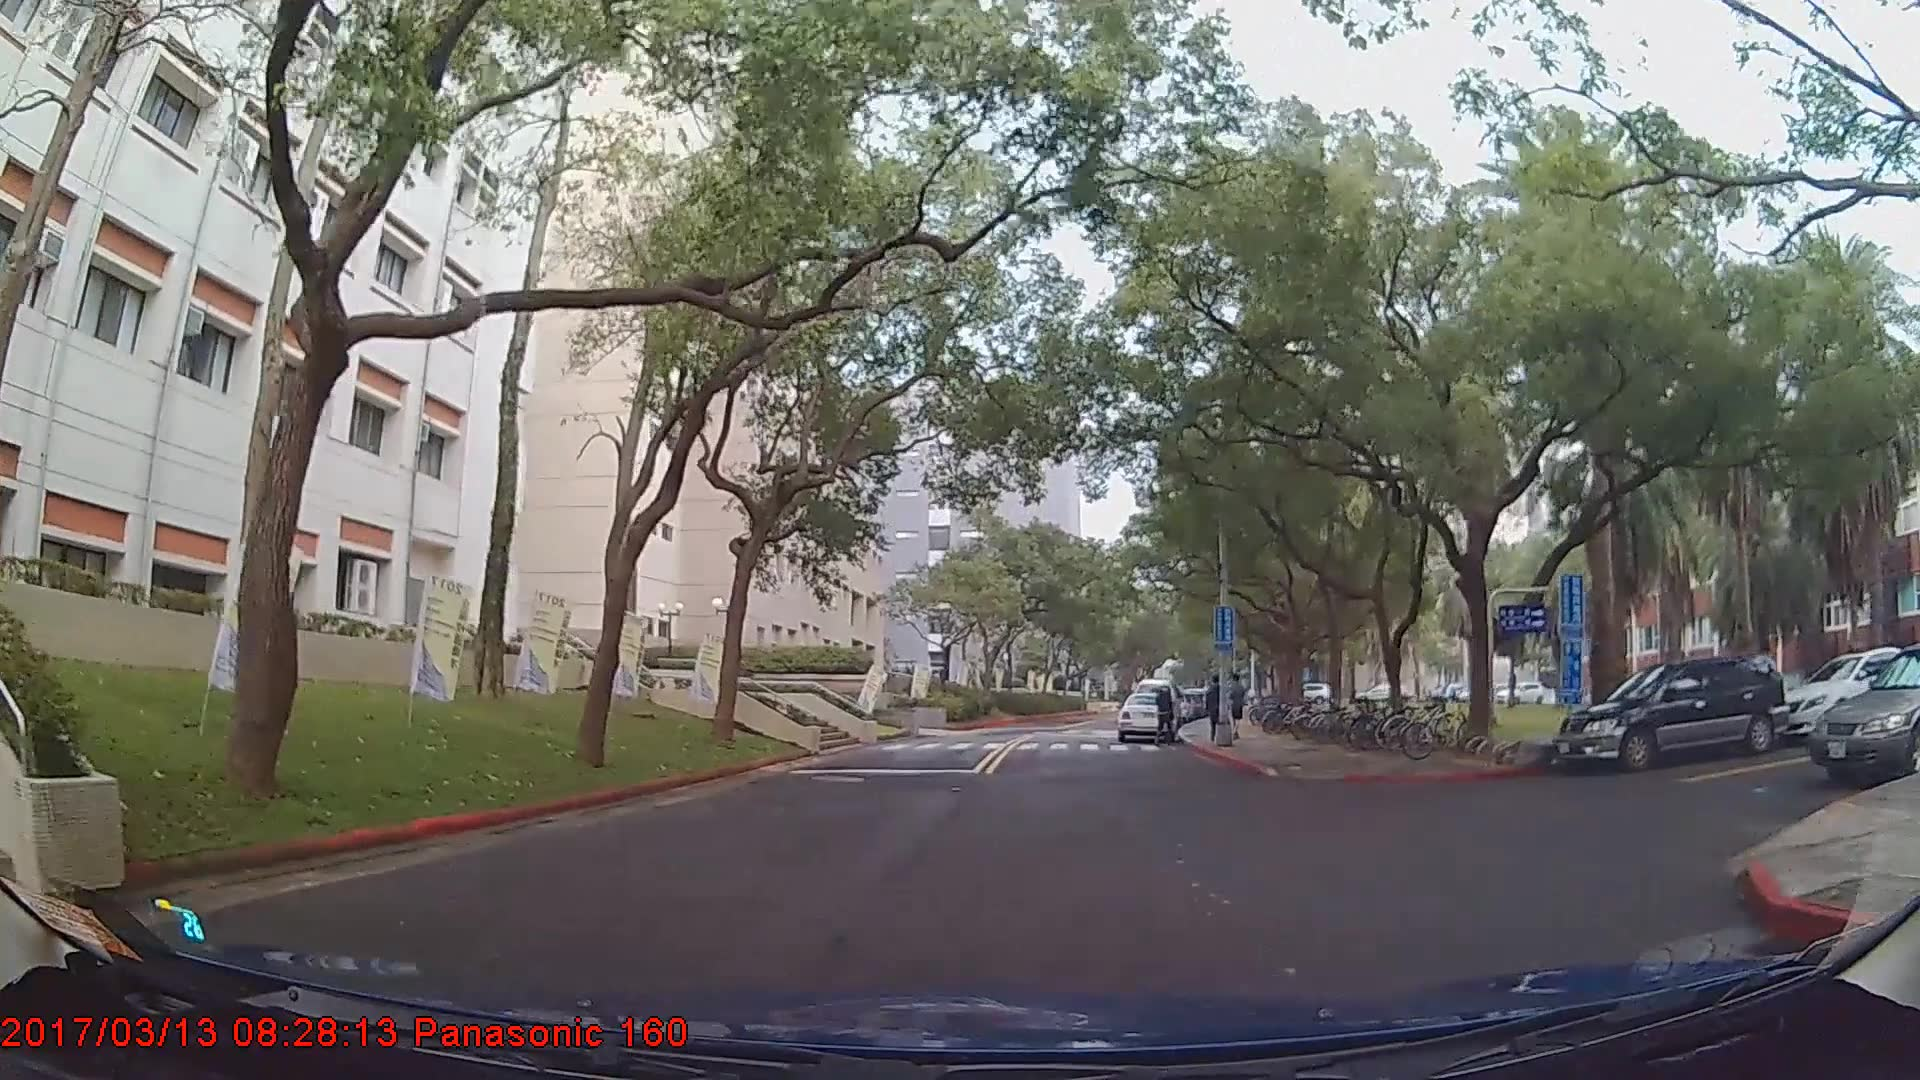pedestrian: (1205, 676, 1229, 742), (1154, 680, 1175, 749)
vehicle: (1554, 651, 1789, 772), (1809, 647, 1920, 785), (1776, 646, 1918, 743), (1114, 689, 1176, 739)
